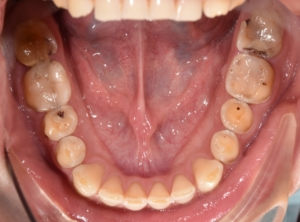LL1BC_healthy: (207, 129, 240, 163)
LL1M_decay: (224, 52, 273, 103)
LL2BC_decay: (221, 97, 252, 134)
LL2M_decay: (235, 12, 284, 58)
LLCI_healthy: (145, 180, 169, 208)
LLC_healthy: (193, 156, 223, 192)
LLLI_healthy: (166, 175, 197, 204)
LR1BC_healthy: (55, 136, 88, 170)
LR1M_decay: (20, 62, 75, 113)
LR2BC_decay: (39, 103, 79, 140)
LR2M_decay: (11, 18, 56, 67)
LRCI_healthy: (122, 181, 147, 211)
LRC_healthy: (70, 158, 104, 196)
LRLI_healthy: (100, 176, 123, 205)
